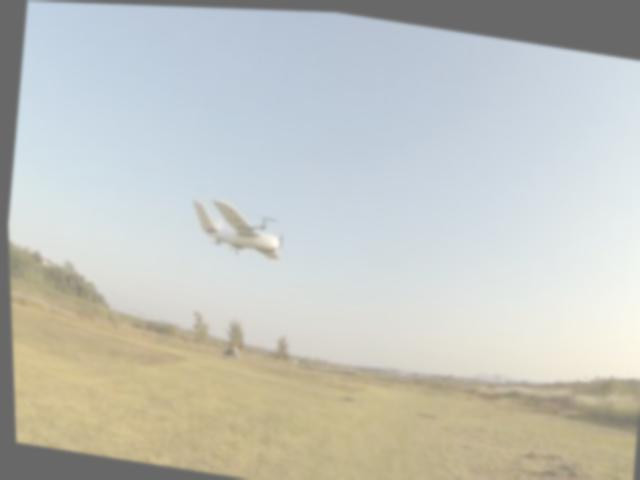uav: (178, 180, 301, 282)
